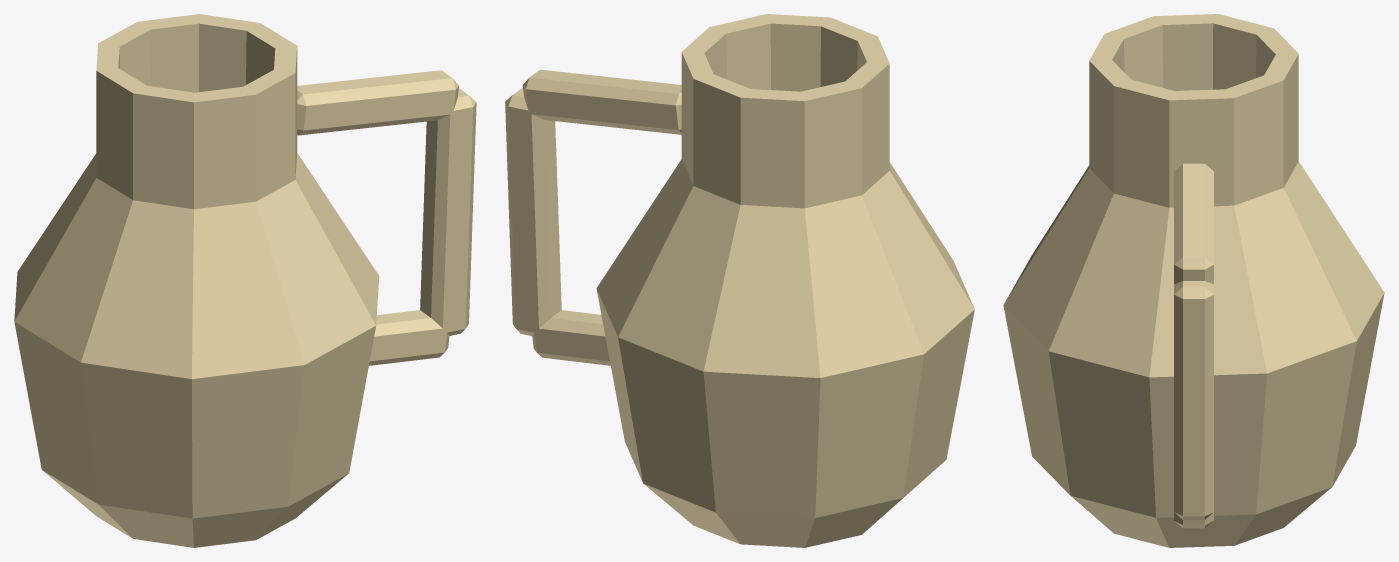
File: ceramic_pitcher.glb
3 renders of one model, left to right at view 1: azimuth 30°, elevation 25°; view 2: azimuth 150°, elevation 25°; view 3: azimuth 270°, elevation 25°, orthographic.
Visible parts, largest first — view 1: Body, Handle_001, Handle, Handle_002; view 2: Body, Handle_001, Handle, Handle_002; view 3: Body, Handle_001, Handle.
Boxes of the visible parts, x1,y1,x2,y2 form: Body: (14, 14, 379, 547); Handle_001: (420, 88, 476, 335); Handle: (297, 70, 458, 135); Handle_002: (369, 310, 449, 365); Body: (596, 14, 974, 547); Handle_001: (505, 87, 561, 335); Handle: (522, 69, 681, 134); Handle_002: (532, 310, 610, 365); Body: (1003, 14, 1384, 547); Handle_001: (1174, 281, 1213, 519); Handle: (1174, 163, 1213, 284).
Size of the model in its own units: 0.3165 by 0.31 by 0.2393.
